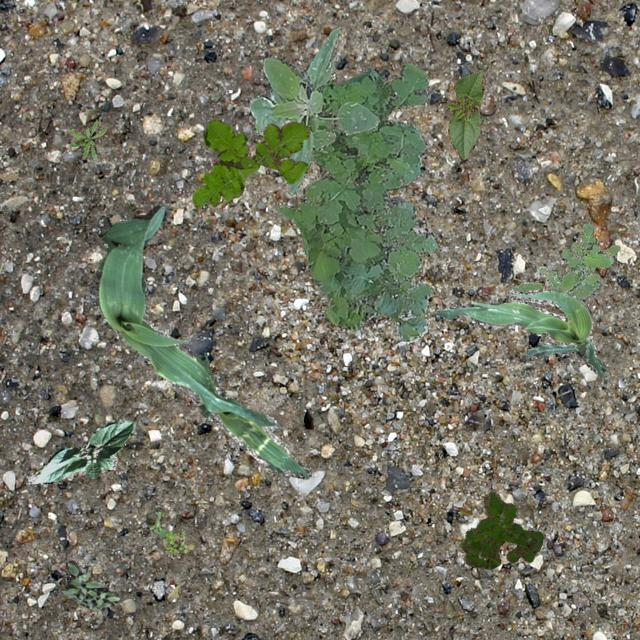crop: (90, 204, 310, 478), (248, 28, 378, 194), (438, 288, 604, 376), (27, 420, 134, 482), (446, 70, 484, 158)
weed: (274, 61, 436, 342), (192, 118, 308, 208), (460, 489, 542, 568), (554, 222, 618, 278), (511, 266, 598, 300), (60, 560, 119, 610), (68, 120, 110, 162), (148, 511, 186, 556)
